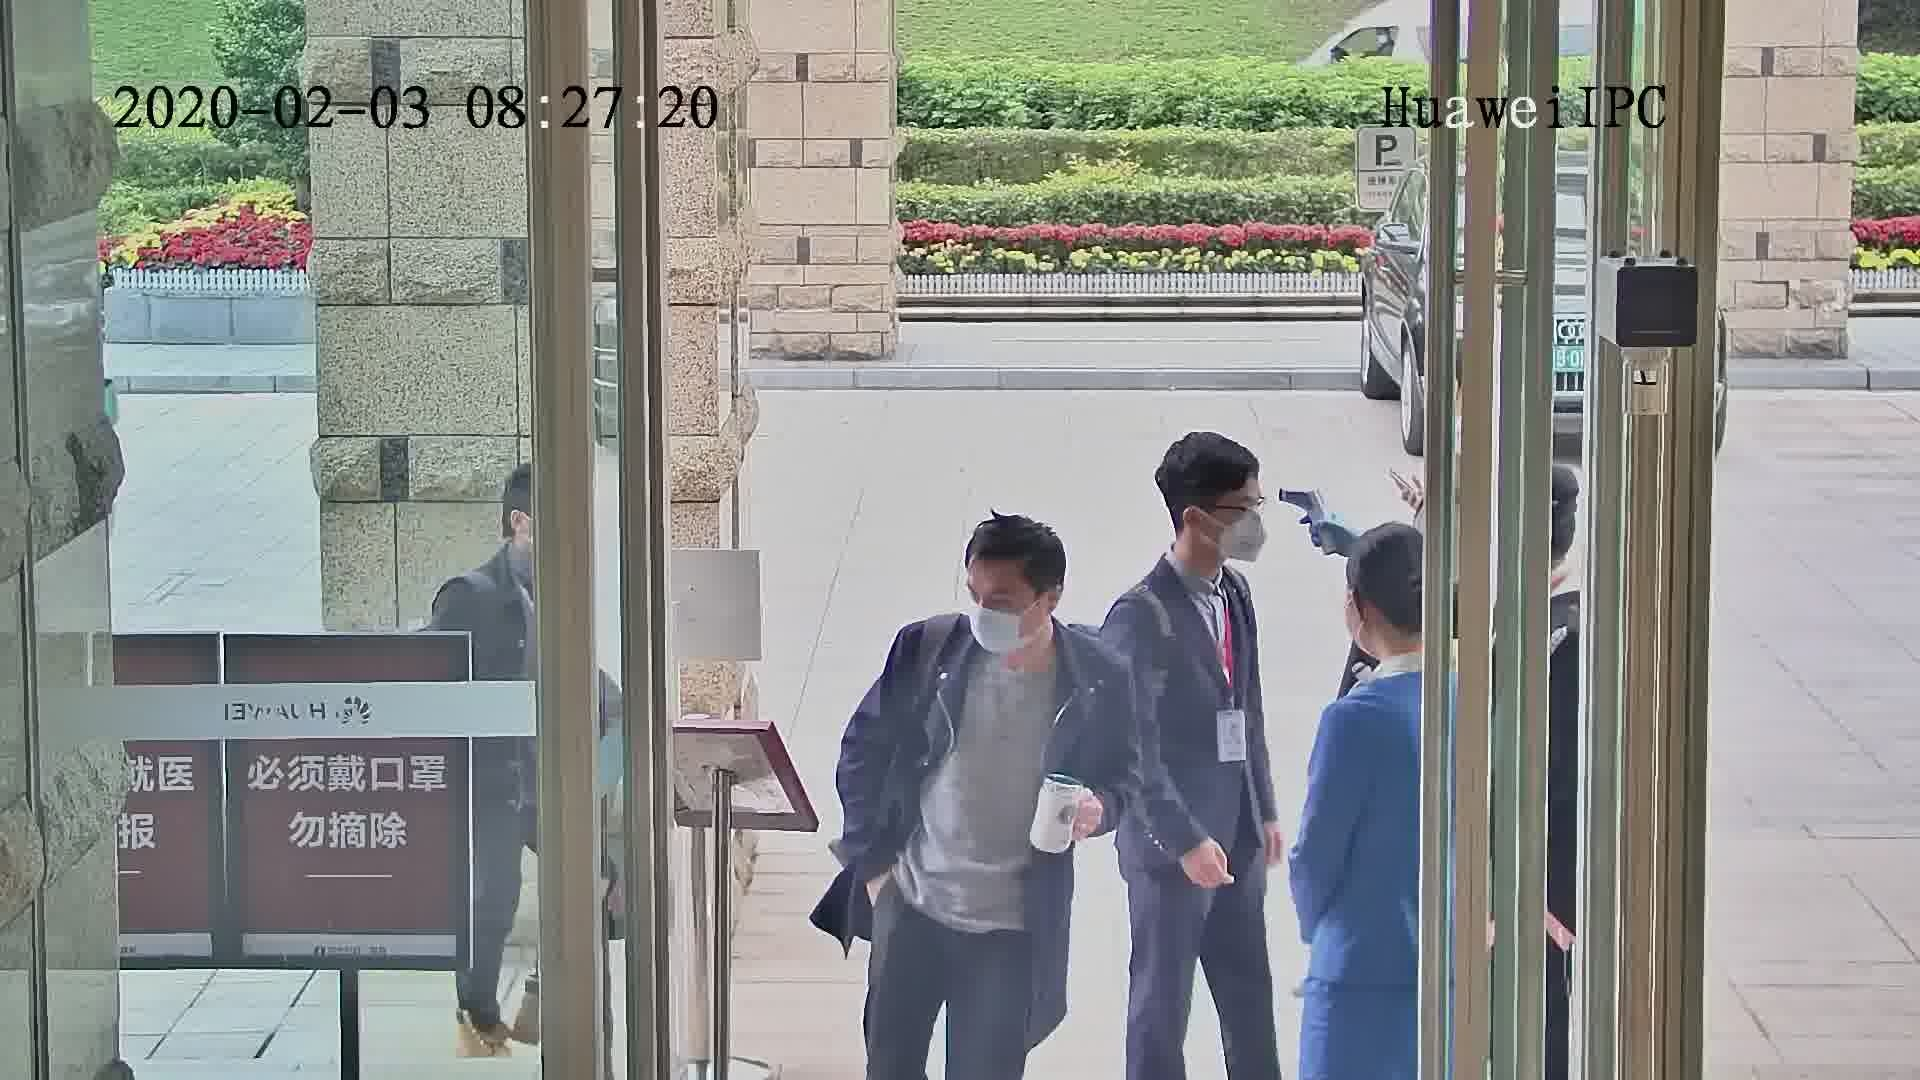face: (965, 560, 1040, 655), (1207, 484, 1271, 562)
mask: (967, 598, 1029, 658), (1220, 509, 1269, 562)
person: (893, 509, 1124, 701), (1103, 428, 1269, 639), (1319, 509, 1421, 775), (437, 469, 543, 629)
